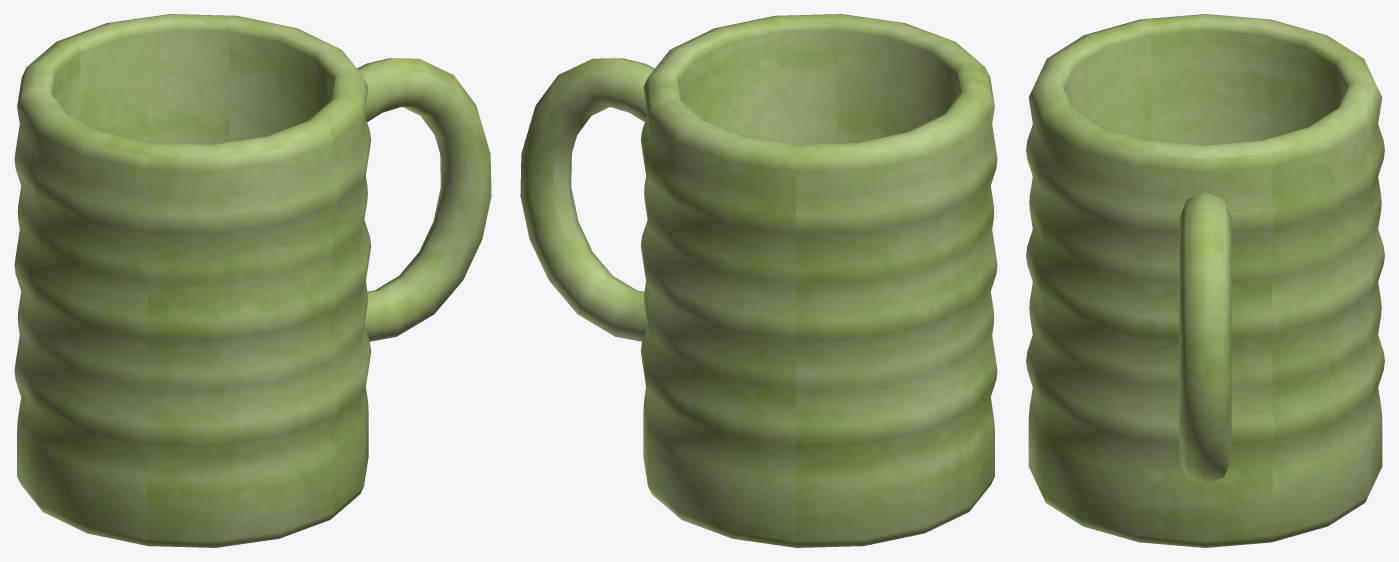
3 renders of one model, left to right at view 1: azimuth 30°, elevation 25°; view 2: azimuth 150°, elevation 25°; view 3: azimuth 270°, elevation 25°, orthographic.
Visible parts, largest first — view 1: Object_2; view 2: Object_2; view 3: Object_2.
Part boxes in pixels (x1=…): Object_2: x1=14, y1=14, x2=491, y2=547; Object_2: x1=520, y1=14, x2=997, y2=547; Object_2: x1=1026, y1=14, x2=1384, y2=547.
Size of the model in its own units: 2.38 by 2 by 1.64.
Materials: 1 (1 with a texture image).
